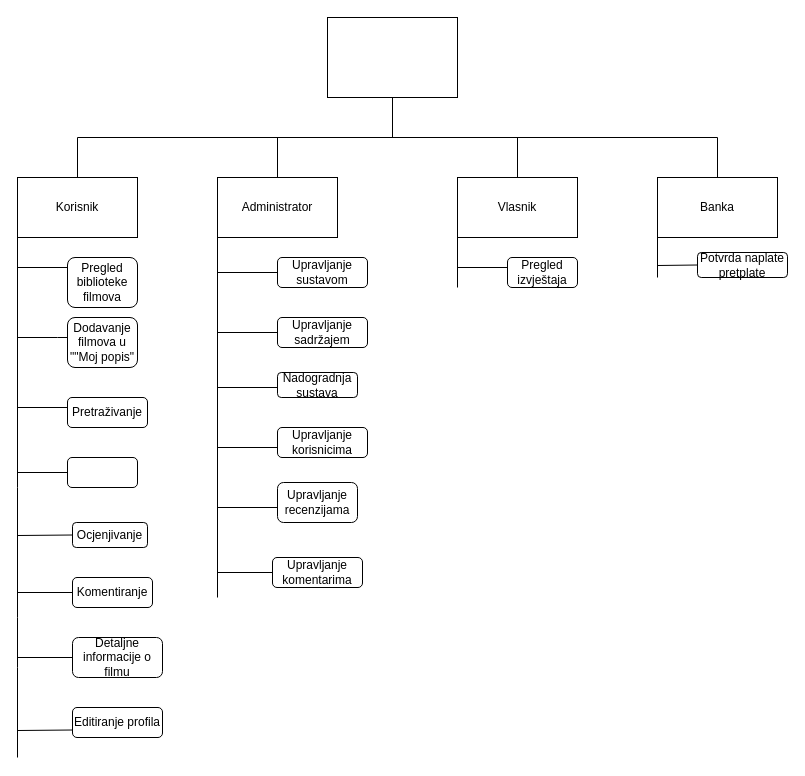
The diagram is 805 pixels wide and 776 high, and some of its shapes have lost their labels. The shapes that lost their labels are listed below. From the top down, each one's box as (x1, y1, x2, y2) in pixels, then its label:
(326, 16, 458, 98): Online Videoteka
(66, 456, 138, 488): Gledanje
